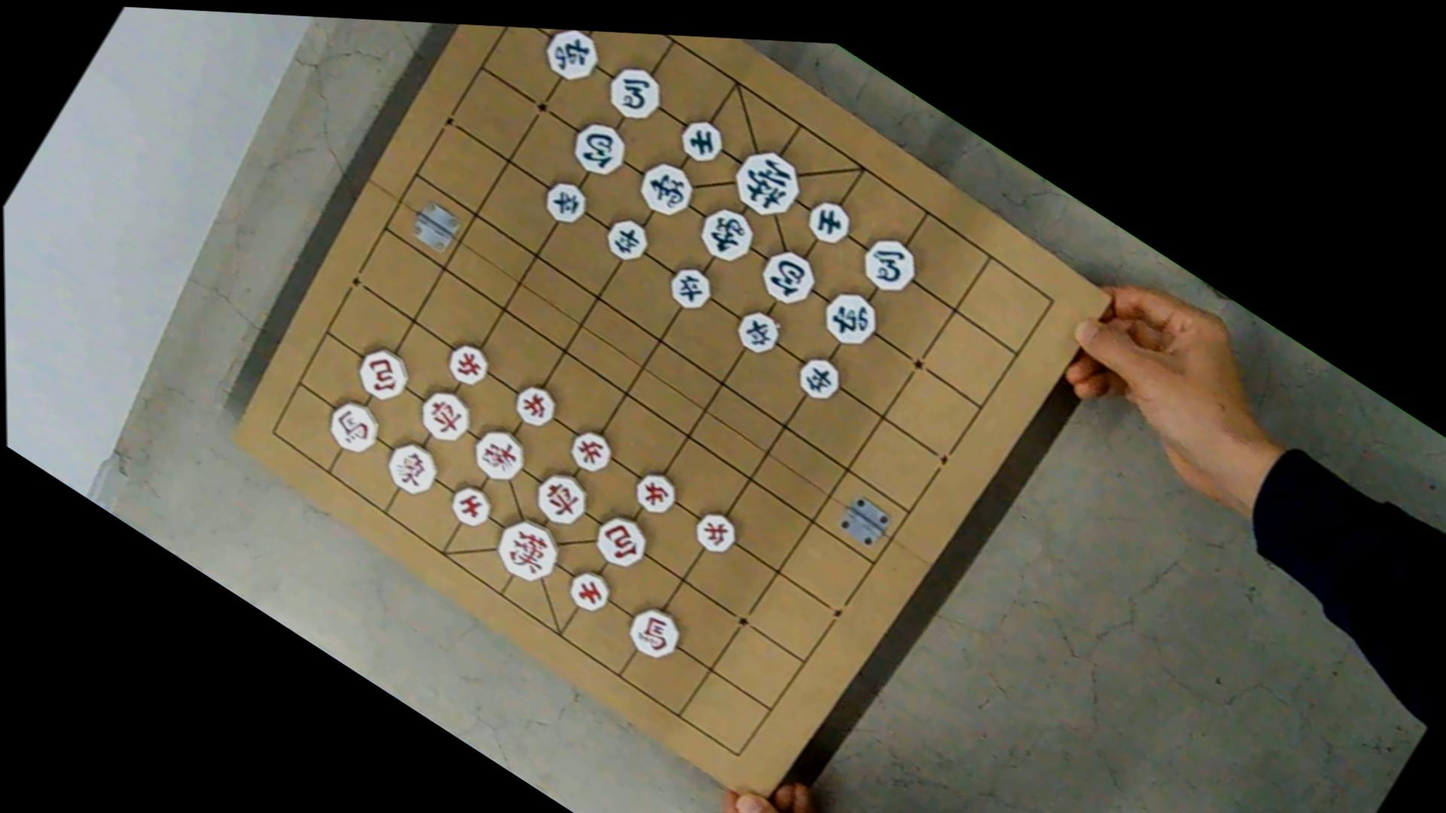cha_green: (816, 283, 886, 355), (538, 28, 606, 90)
cha_red: (529, 464, 596, 534), (413, 382, 479, 450)
jol_green: (792, 350, 847, 408), (664, 260, 719, 317), (538, 175, 593, 231), (731, 305, 786, 361), (600, 212, 654, 267)
jol_red: (629, 465, 683, 521), (690, 506, 744, 561), (508, 379, 562, 434), (565, 425, 618, 479), (441, 338, 493, 391)
ma_green: (856, 230, 926, 302), (602, 59, 669, 129)
ma_red: (621, 598, 689, 667), (320, 393, 387, 461)
po_green: (565, 114, 634, 184), (754, 242, 822, 312)
po_red: (587, 506, 657, 577), (351, 340, 416, 409)
sa_green: (801, 194, 856, 251), (675, 114, 729, 169)
sa_red: (444, 478, 498, 534), (562, 563, 616, 618)
sang_green: (691, 199, 761, 271), (631, 154, 701, 225)
sang_red: (466, 421, 532, 489), (380, 434, 444, 501)
wang_green: (724, 140, 810, 229)
wang_red: (488, 510, 568, 592)
